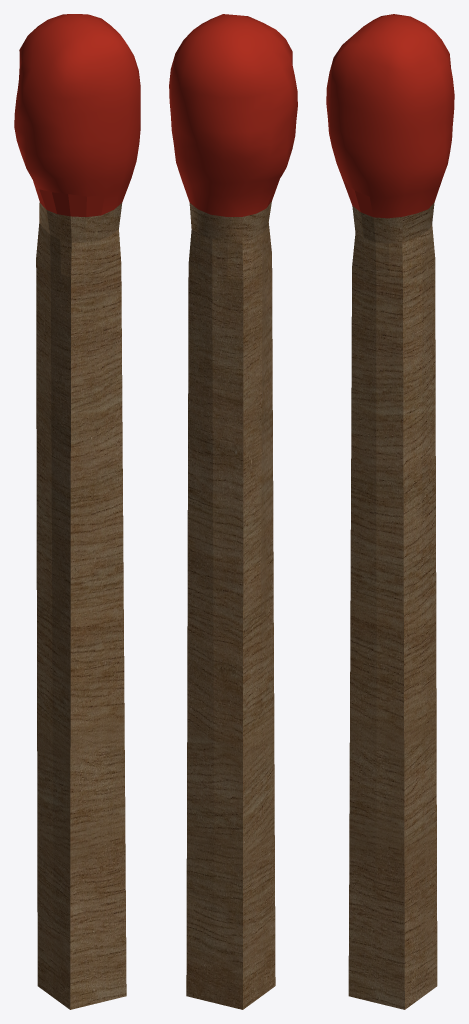
The model's file is match.glb.
The picture shows the model from 3 angles, left to right: view 1: azimuth 30°, elevation 25°; view 2: azimuth 150°, elevation 25°; view 3: azimuth 330°, elevation 25°; orthographic projection.
Parts seen in each view (by area): view 1: Cube; view 2: Cube; view 3: Cube.
Part boxes in pixels (x1=…): Cube: x1=14, y1=14, x2=140, y2=1009; Cube: x1=169, y1=14, x2=297, y2=1009; Cube: x1=326, y1=14, x2=454, y2=1009.
Size of the model in its own units: 0.7729 by 6.31 by 0.7312.
Materials: 2 (1 with a texture image).
